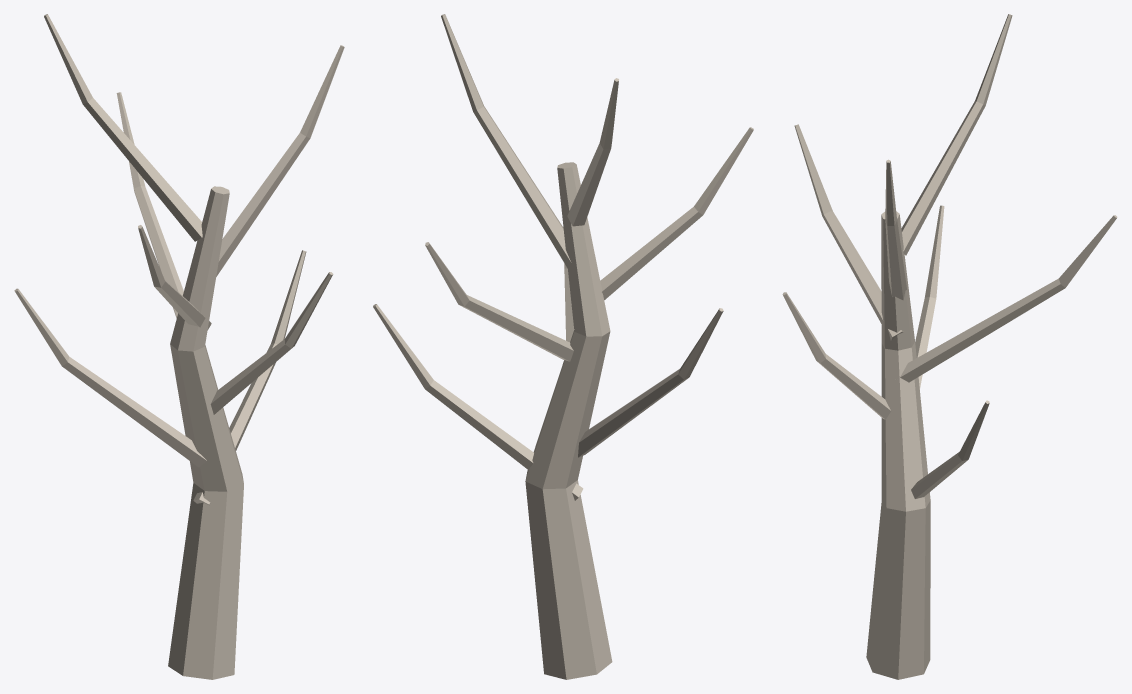
Rendered from tree_dead.glb.
The picture shows the model from 3 angles, left to right: view 1: azimuth 30°, elevation 25°; view 2: azimuth 150°, elevation 25°; view 3: azimuth 270°, elevation 25°; orthographic projection. The views are drawn at different scales.
Parts seen in each view (by area): view 1: Tree_Dead; view 2: Tree_Dead; view 3: Tree_Dead.
Boxes of the visible parts, x1=… form: Tree_Dead: x1=14, y1=14, x2=344, y2=679; Tree_Dead: x1=373, y1=14, x2=753, y2=679; Tree_Dead: x1=782, y1=14, x2=1117, y2=679.
Size of the model in its own units: 4.42 by 8.56 by 4.28.
